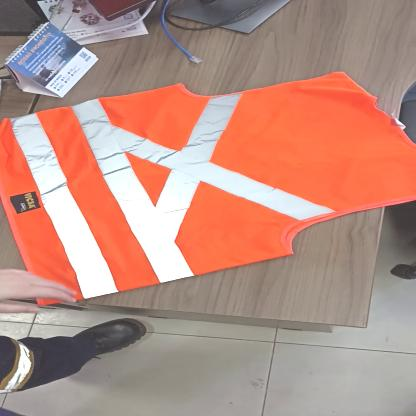colete: (1, 64, 416, 304)
